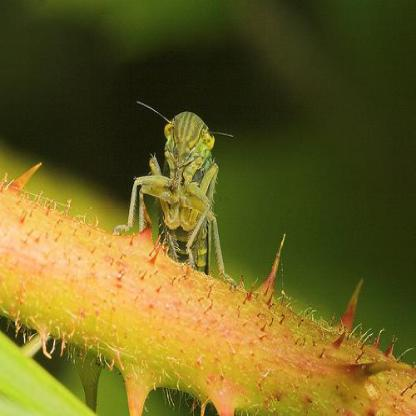Green-Leafhopper: (111, 90, 242, 286)
